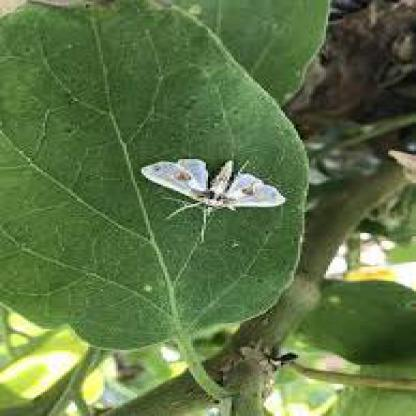leucinodes: (144, 159, 285, 208)
